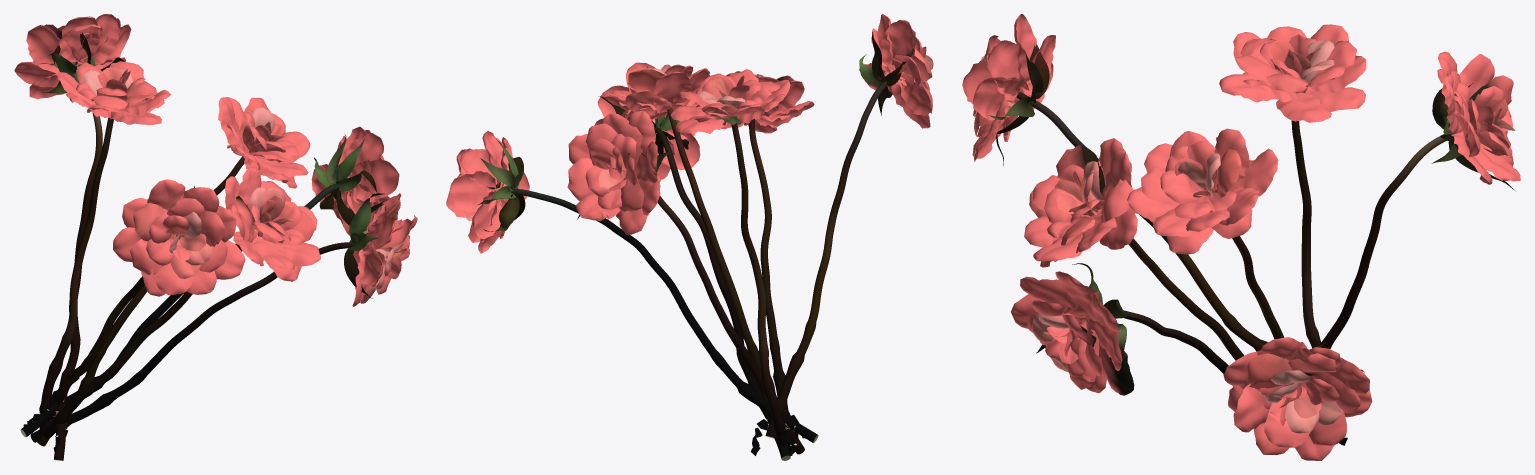
File: text-geometries.glb
3 renders of one model, left to right at view 1: azimuth 30°, elevation 25°; view 2: azimuth 150°, elevation 25°; view 3: azimuth 270°, elevation 25°, orthographic. The views are drawn at different scales.
Parts seen in each view (by area): view 1: flowwer; view 2: flowwer; view 3: flowwer.
Boxes of the visible parts, x1,y1,x2,y2 form: flowwer: (14, 14, 417, 460); flowwer: (446, 14, 933, 460); flowwer: (962, 14, 1520, 460).
Bounding box in the file's own units: 1.84 × 1.77 × 1.99.
Materials: 4 (4 with a texture image).
